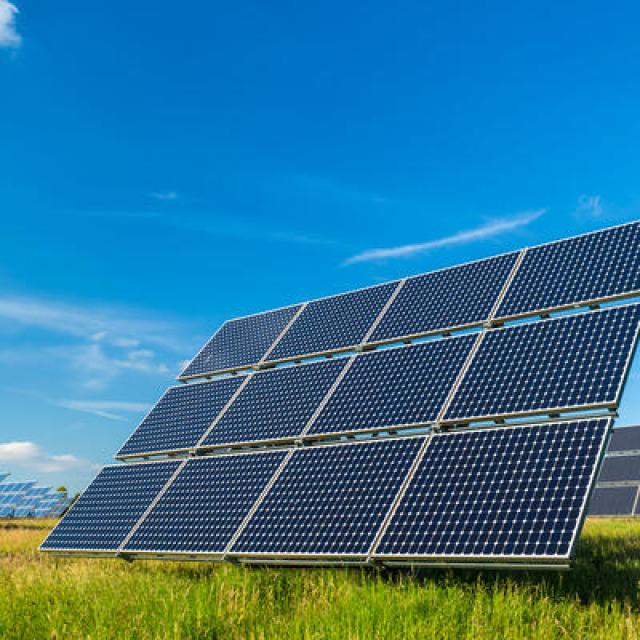clean-solar-panel: (45, 222, 640, 566)
